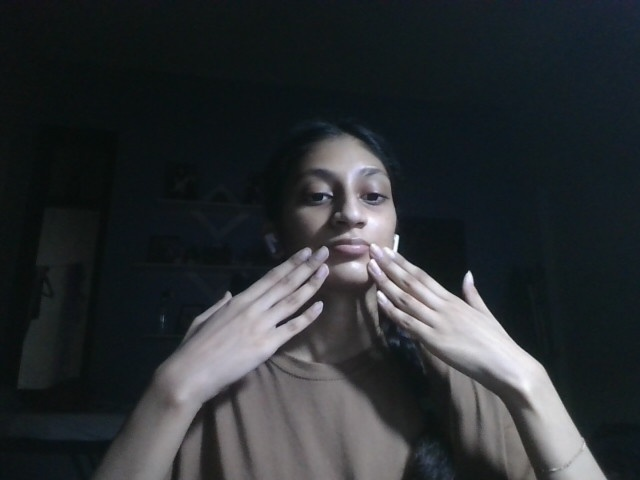thank you: (160, 240, 550, 410)
